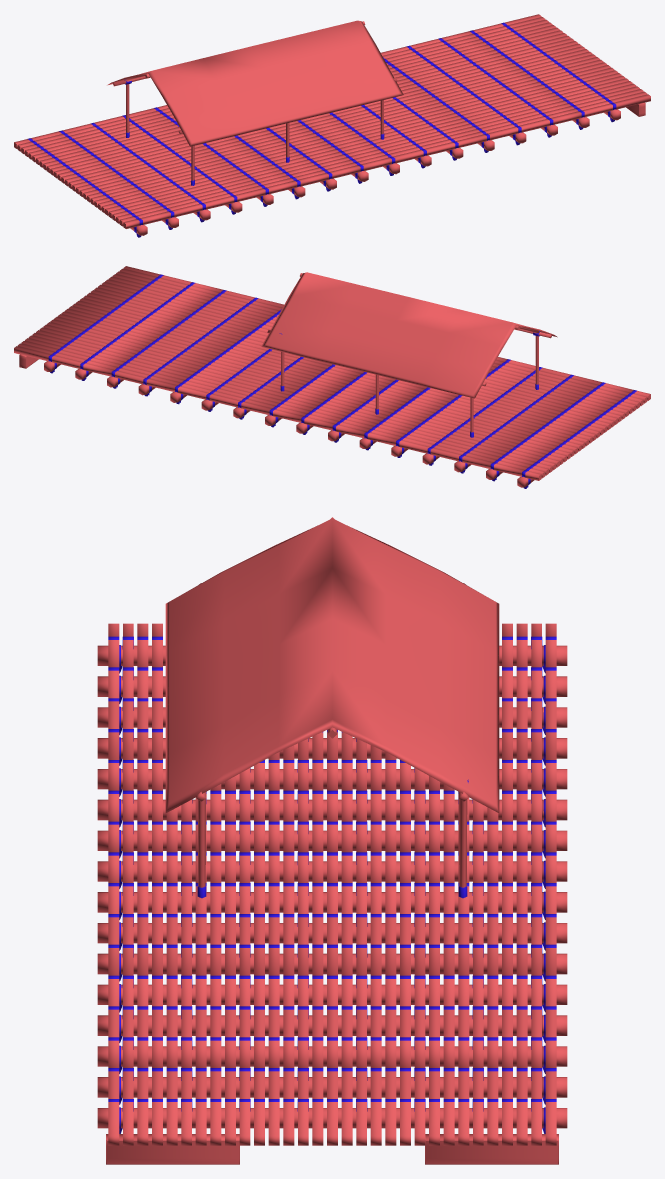
Rendered from SM_Tipairua_Desk.fbx.
3 views of the same model, one above another, from view 1: azimuth 30°, elevation 25°; view 2: azimuth 150°, elevation 25°; view 3: azimuth 270°, elevation 25° (orthographic). The views are drawn at different scales.
Visible parts, largest first — view 1: SM_TIpairua_Desk; view 2: SM_TIpairua_Desk; view 3: SM_TIpairua_Desk.
Part boxes in pixels (x1,y1,x2,y2): SM_TIpairua_Desk: [14, 14, 650, 237]; SM_TIpairua_Desk: [14, 266, 650, 488]; SM_TIpairua_Desk: [97, 517, 567, 1164].
Bounding box in the file's own units: 644 × 1662 × 336.
